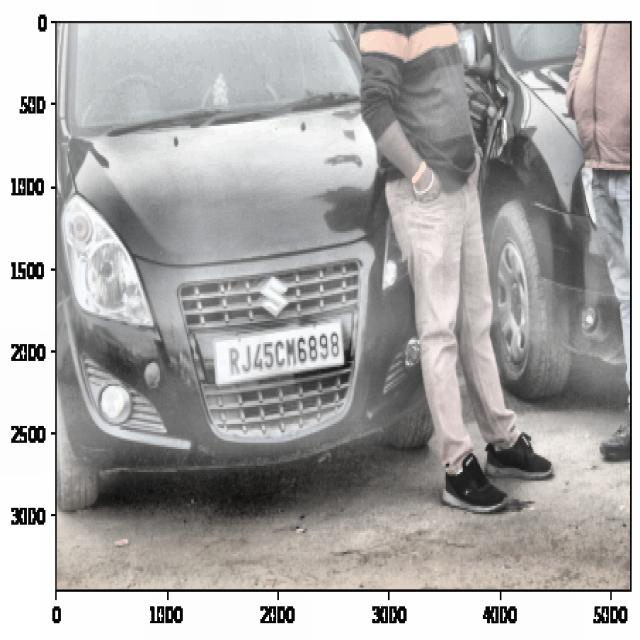license_plate: (220, 330, 343, 380)
